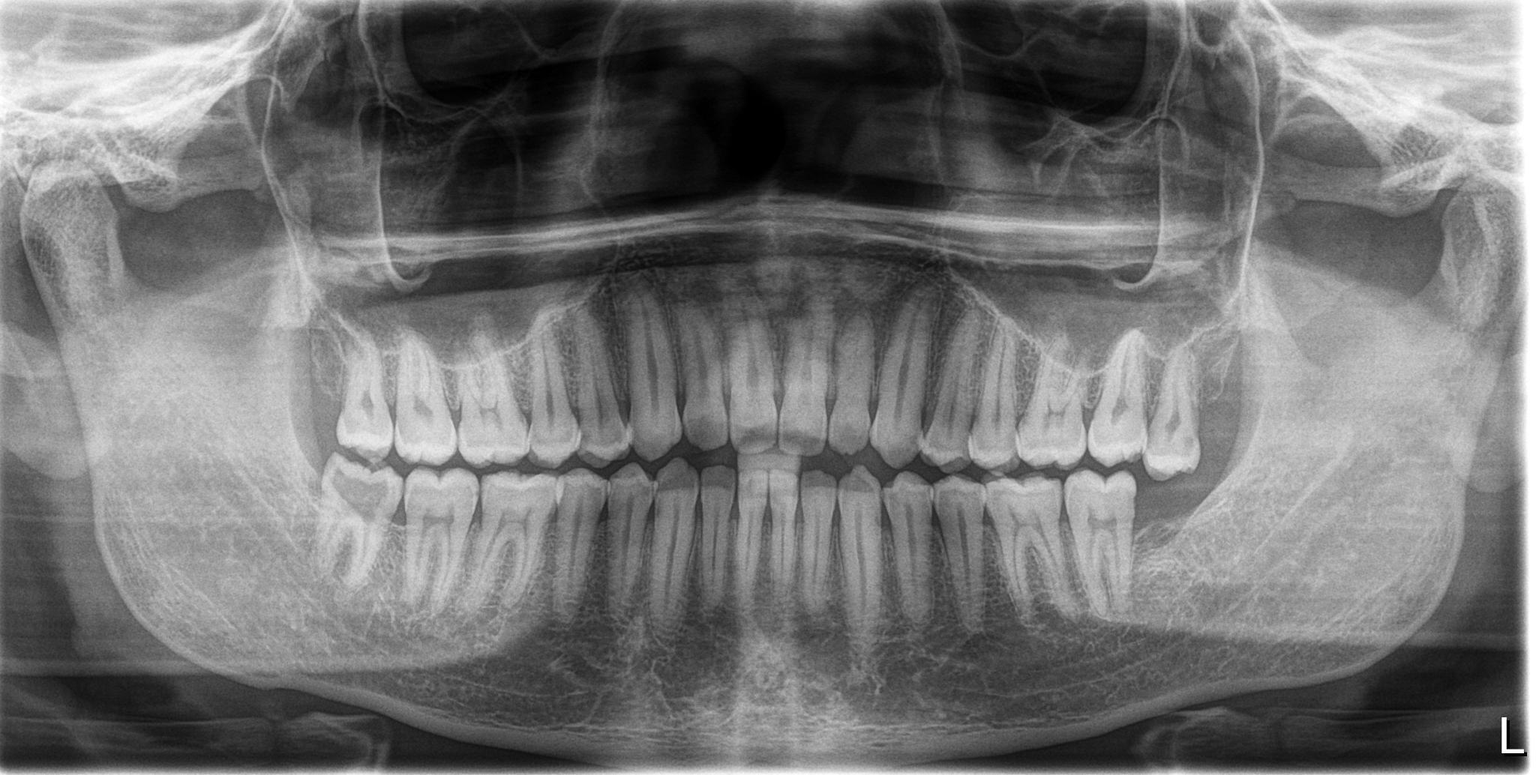Dental Caries: (334, 461, 403, 519)
Missing Tooth: (1138, 476, 1220, 588)
